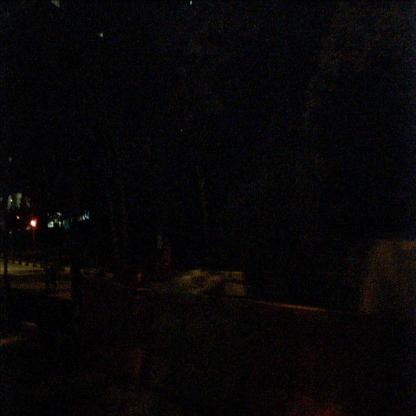movable_object-barrier: (269, 300, 407, 416), (153, 284, 273, 416), (98, 270, 154, 416)
